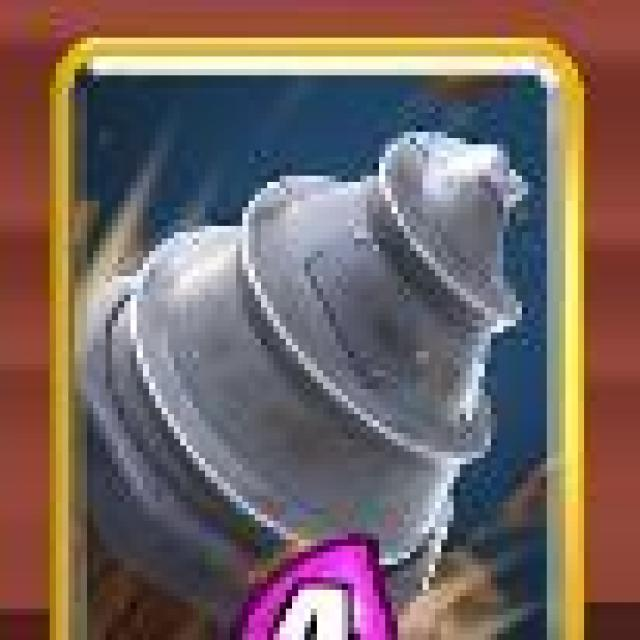Goblin_Drill: (47, 39, 585, 640)
